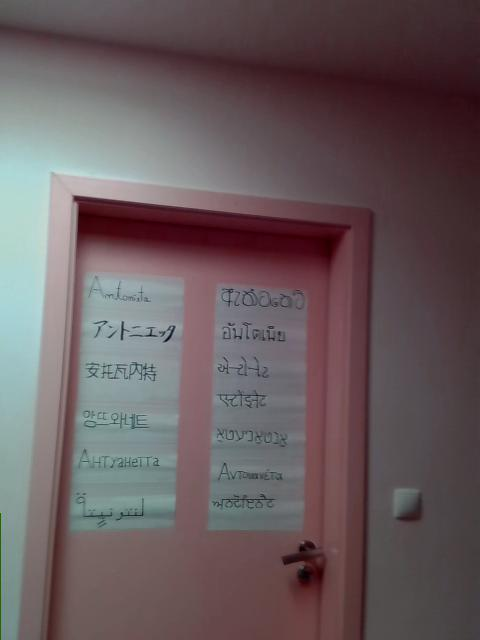closed_door: (17, 169, 375, 639)
